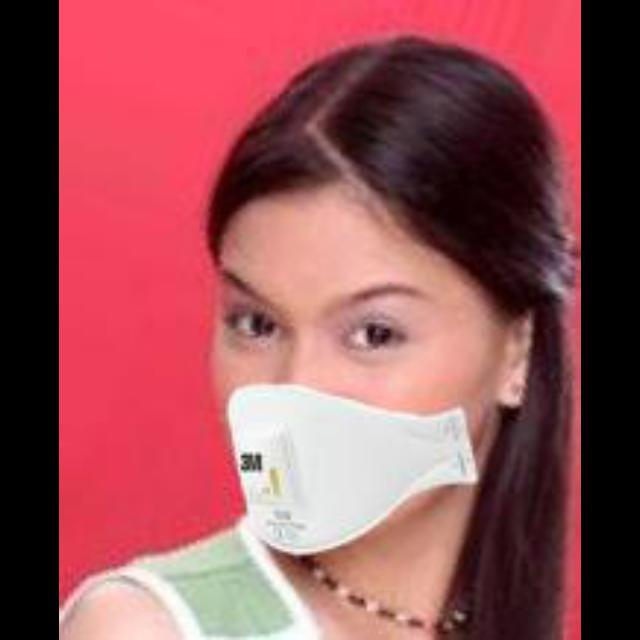suspicion: (202, 161, 480, 563)
